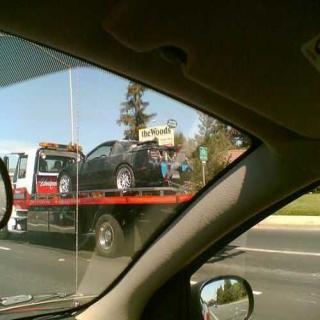Towing_truck: (3, 136, 196, 258)
